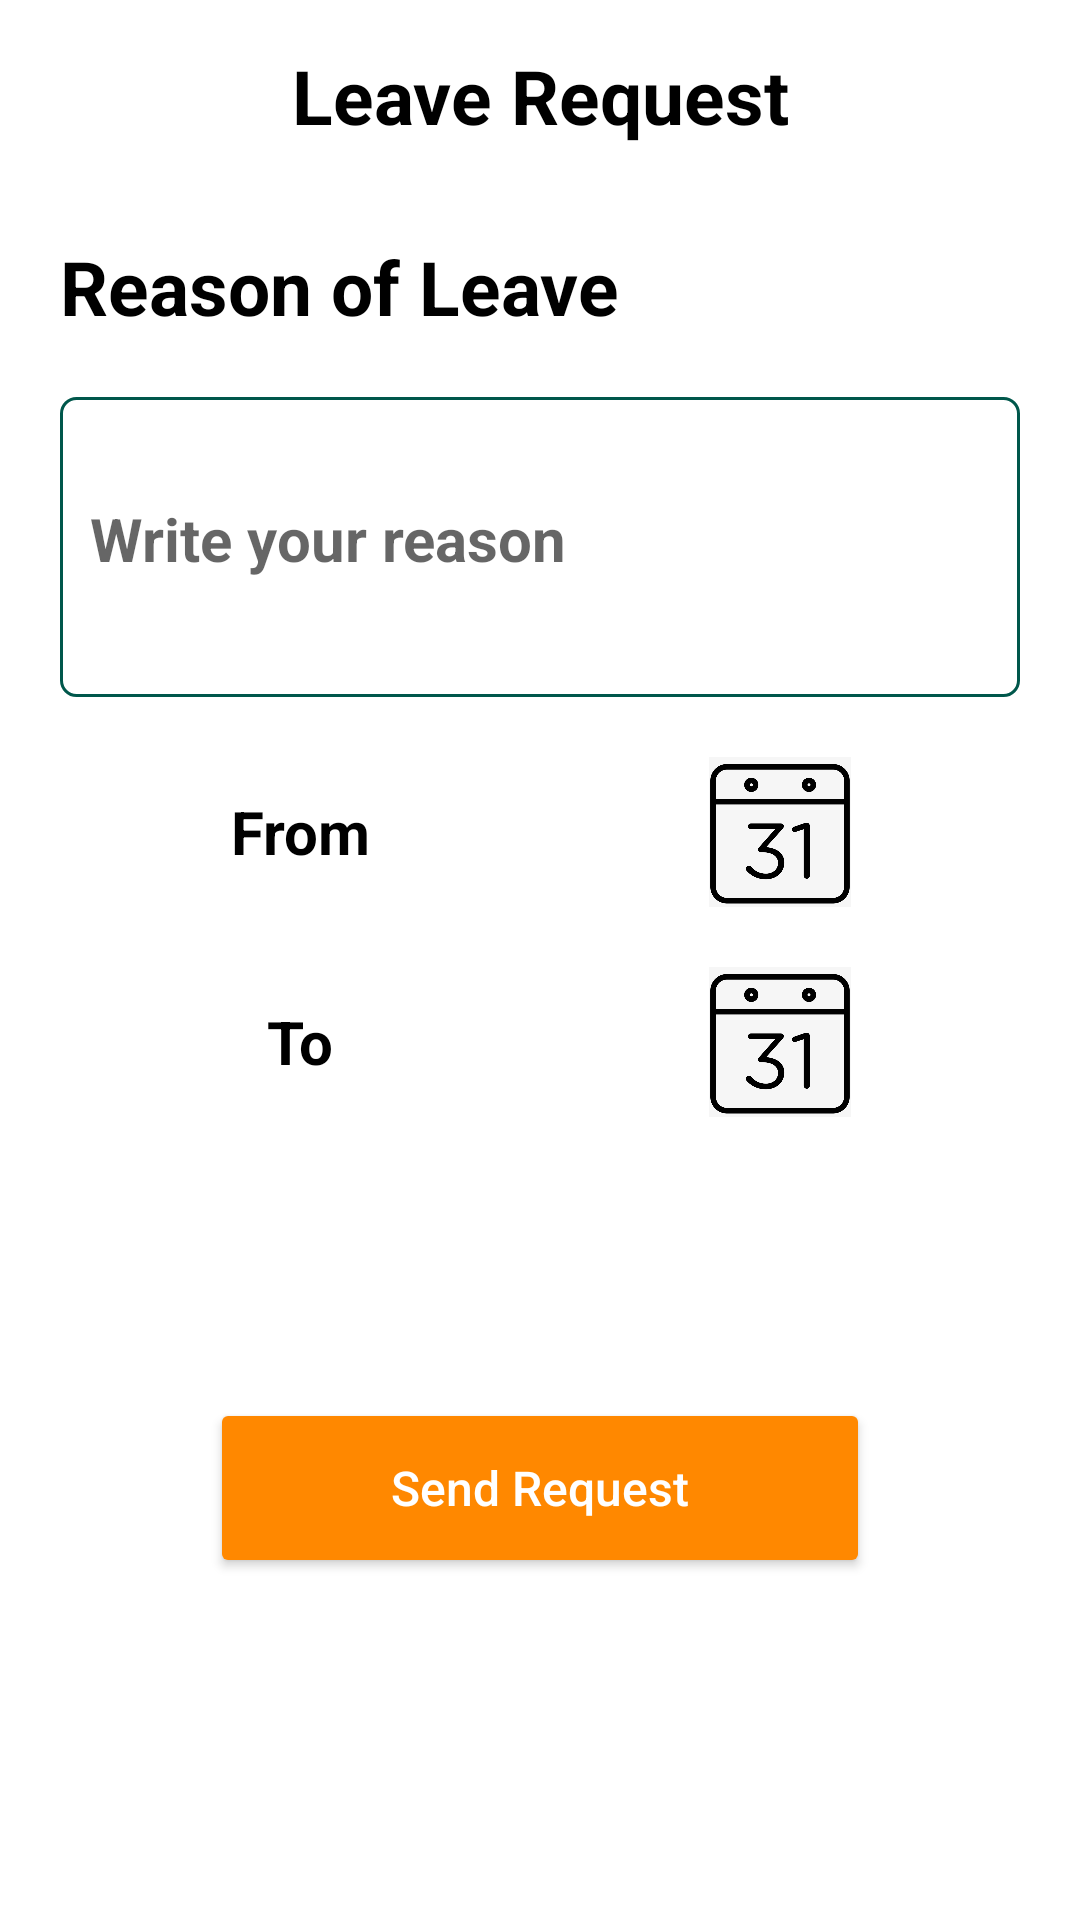

Icons on this 1080w x 1920h Android screen, each with its box as detection(x1, y1, x2, y2):
calender: detection(709, 757, 851, 907), detection(709, 967, 851, 1117)
